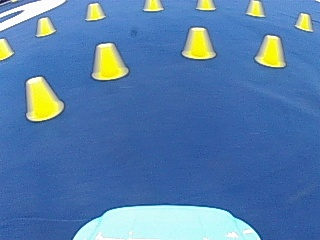cone: (23, 75, 63, 121), (91, 41, 127, 80), (181, 26, 216, 59), (254, 34, 286, 67), (35, 17, 55, 37), (86, 2, 105, 20), (295, 12, 312, 31), (246, 0, 264, 17), (0, 37, 13, 59), (143, 0, 162, 11), (196, 0, 214, 10)
